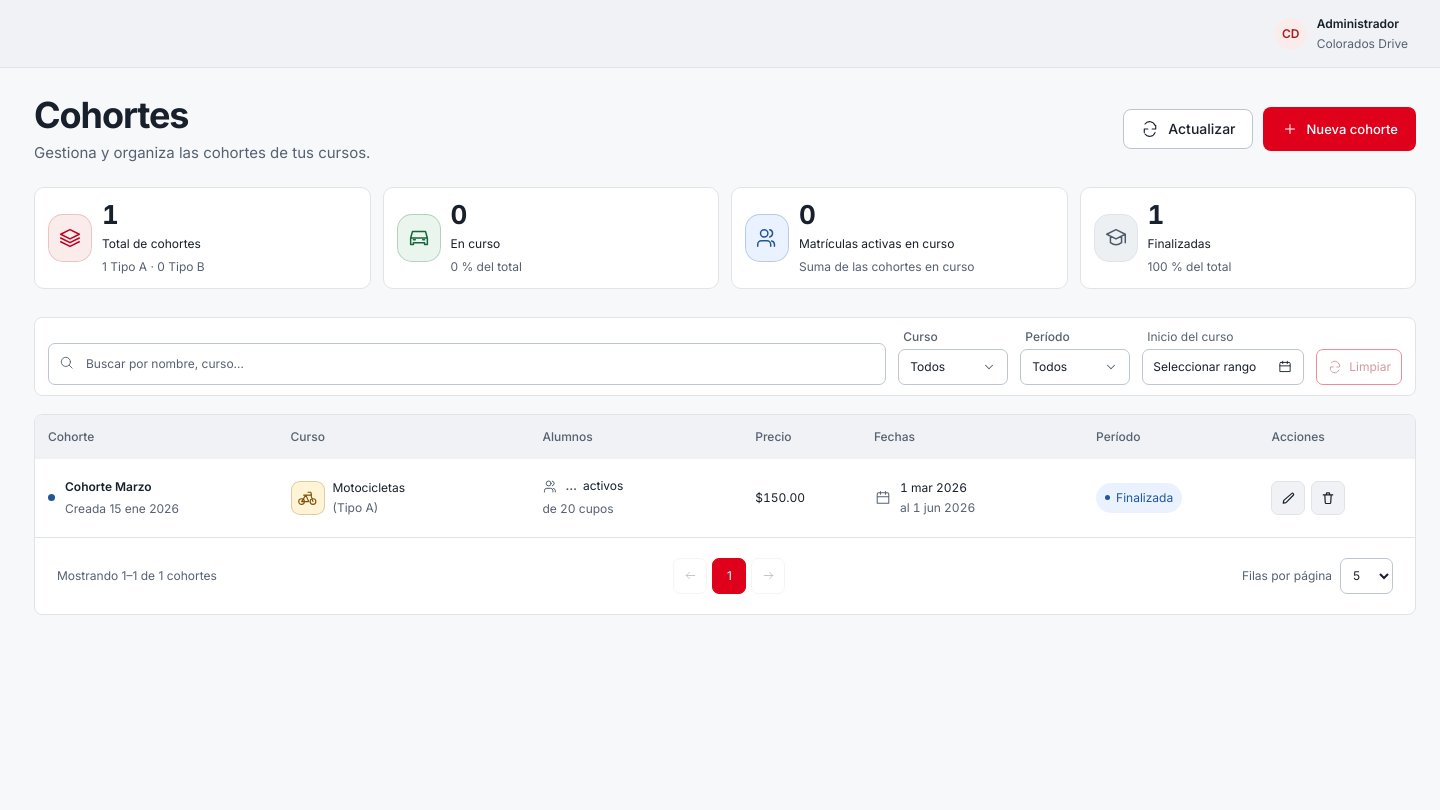
Scenario: panel lateral de cohortes › edita en el panel con la versión cargada por id y avisa al guardar
This screenshot has width=1440, height=810.
Click the link named "Editar Cohorte Marzo" at [1288, 498], box [1272,481,1306,515]
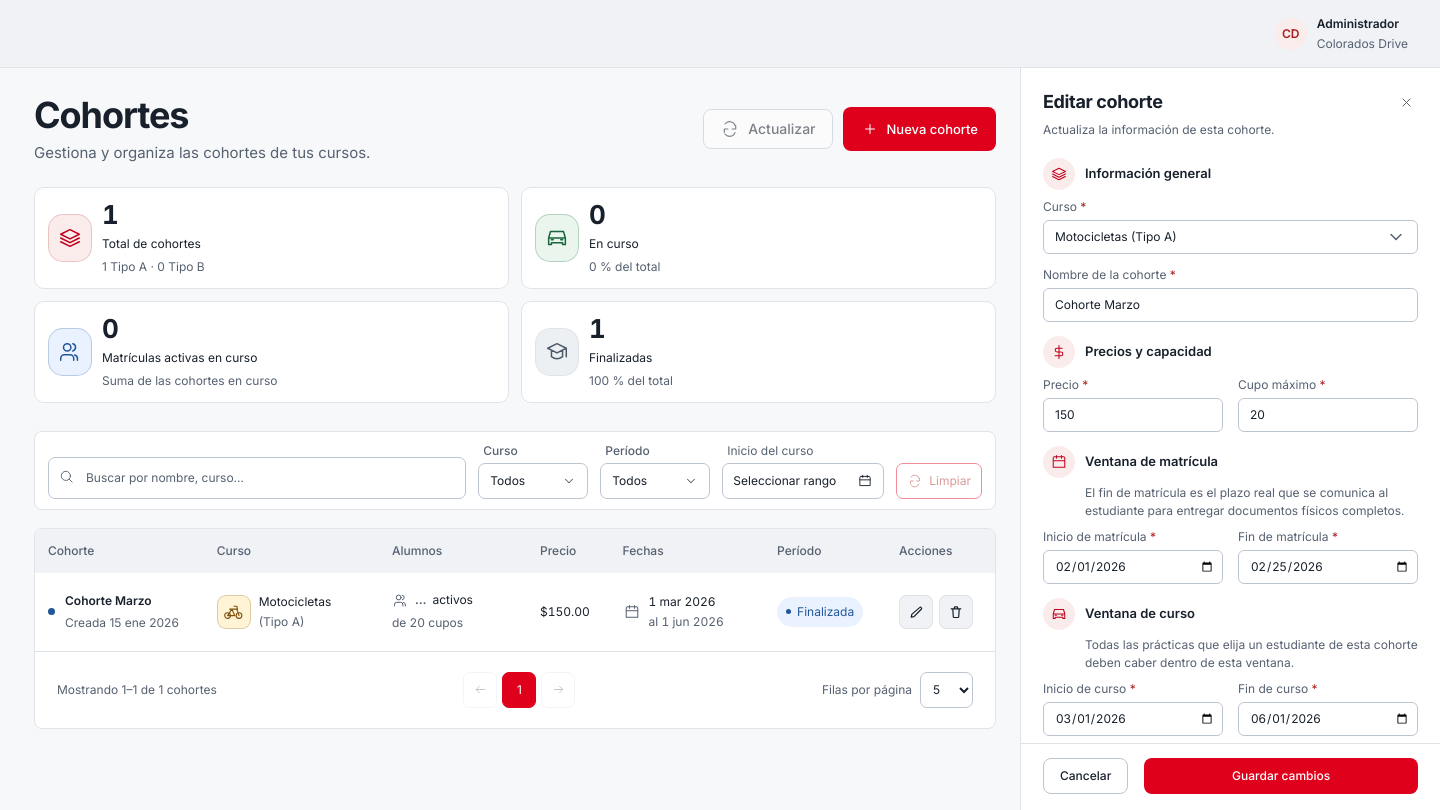
Replace the text in the field labelled "Nombre de la cohorte" with "Cohorte Marzo B" at [1230, 305], box [1043,288,1418,322]
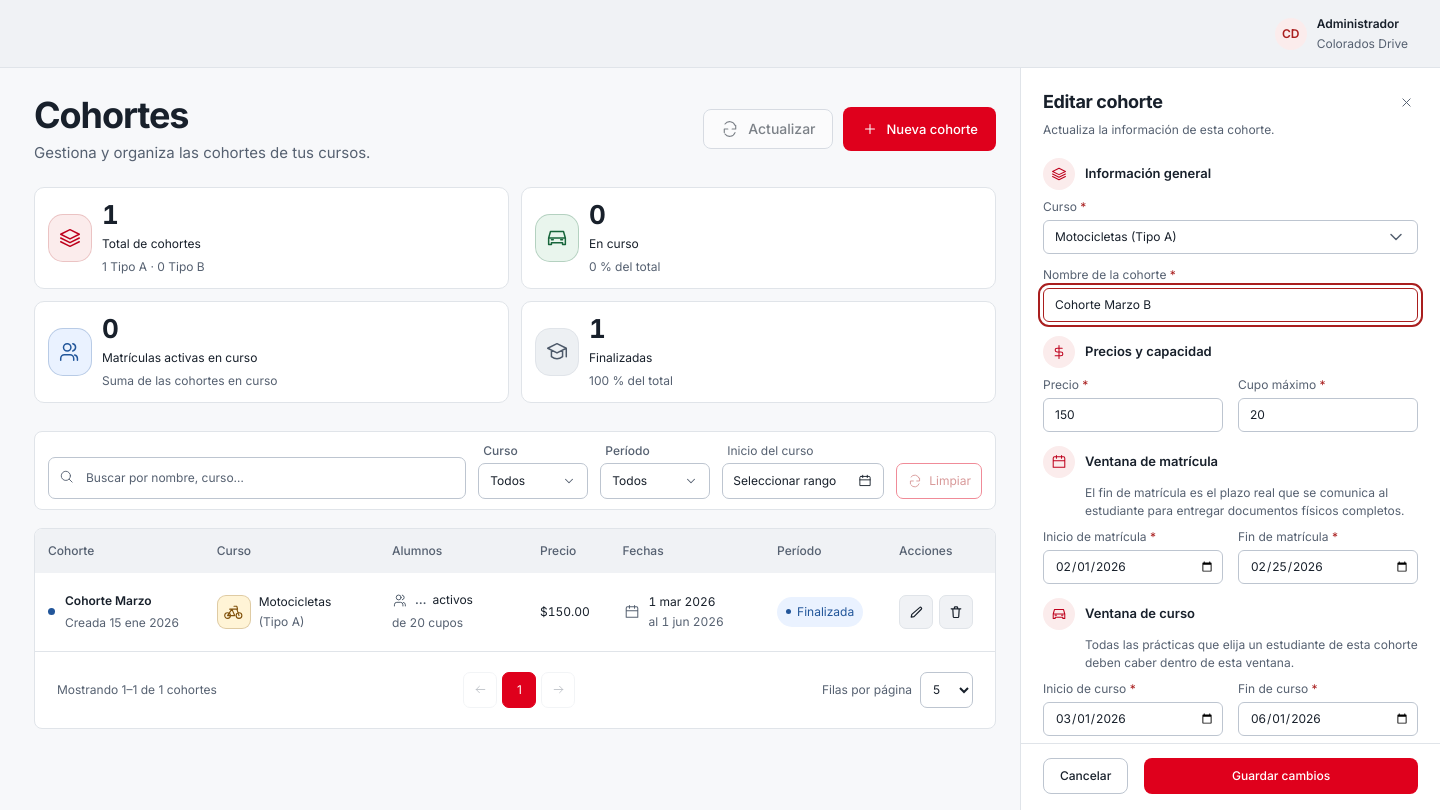
Click the button "Guardar cambios" at [1281, 776], box [1144,758,1418,794]
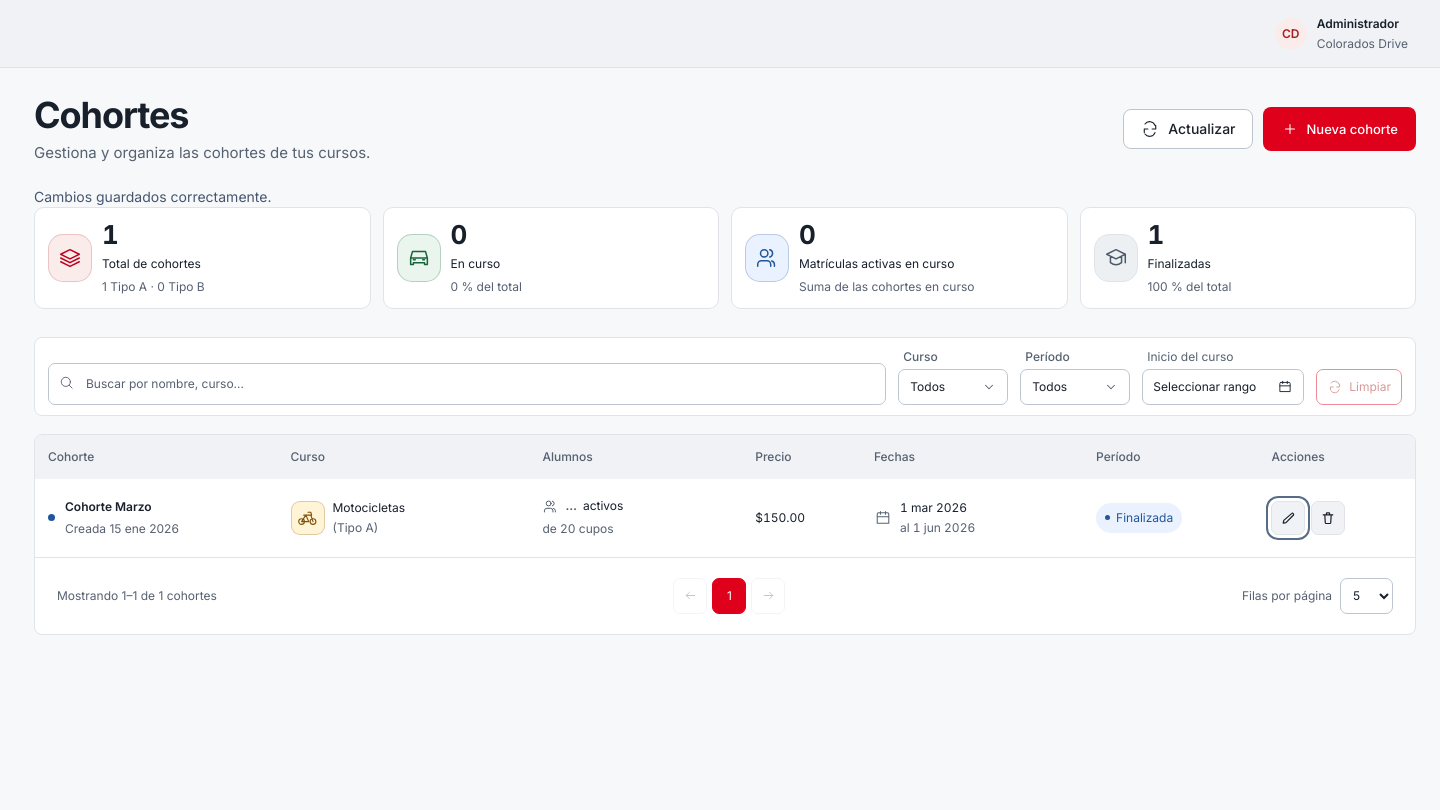
Expected: the heading "Editar cohorte" is gone
Expected: the message reads "Cambios guardados correctamente.", [34,188,272,205]
